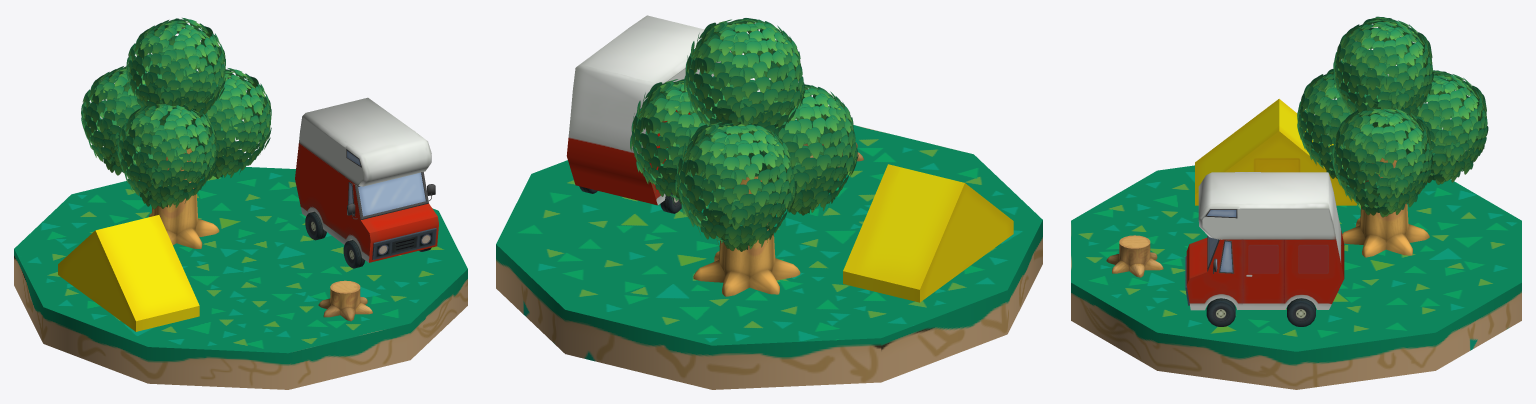
3 views of the same model, side by side, from view 1: azimuth 30°, elevation 25°; view 2: azimuth 150°, elevation 25°; view 3: azimuth 270°, elevation 25° (orthographic). The views are drawn at different scales.
Parts seen in each view (by area): view 1: Boden, Wohnmobil_wohmobil_baumstumpf_rad_0, Zelt, Baumkrone03, Baumkrone00, Baumkrone01, Baumkrone02, Baumstamm, Baumstumpf, Wohnmobil_rahmen_0, reifen006_wohmobil_baumstumpf_rad_0, reifen007_wohmobil_baumstumpf_rad_0; view 2: Boden, Zelt, Wohnmobil_wohmobil_baumstumpf_rad_0, Baumkrone02, Baumkrone00, Baumkrone03, Baumkrone01, Baumstamm; view 3: Boden, Wohnmobil_wohmobil_baumstumpf_rad_0, Baumkrone01, Baumkrone00, Zelt, Baumkrone02, Baumkrone03, Baumstamm, Baumstumpf, reifen01_wohmobil_baumstumpf_rad_0, reifen005_wohmobil_baumstumpf_rad_0, Wohnmobil_rahmen_0.
Part boxes in pixels (box(x1,y1,x2,y2)): Boden: box(14, 167, 467, 389); Wohnmobil_wohmobil_baumstumpf_rad_0: box(295, 97, 438, 262); Zelt: box(58, 215, 199, 331); Baumkrone03: box(117, 103, 216, 209); Baumkrone00: box(126, 17, 225, 126); Baumkrone01: box(186, 68, 271, 179); Baumkrone02: box(81, 66, 167, 175); Baumstamm: box(148, 148, 219, 248); Baumstumpf: box(318, 280, 372, 321); Wohnmobil_rahmen_0: box(346, 149, 435, 219); reifen006_wohmobil_baumstumpf_rad_0: box(343, 240, 365, 268); reifen007_wohmobil_baumstumpf_rad_0: box(305, 211, 326, 240); Boden: box(496, 119, 1042, 389); Zelt: box(843, 164, 1013, 302); Wohnmobil_wohmobil_baumstumpf_rad_0: box(566, 15, 731, 205); Baumkrone02: box(675, 121, 796, 251); Baumkrone00: box(684, 18, 805, 142); Baumkrone03: box(748, 84, 858, 215); Baumkrone01: box(630, 79, 735, 209); Baumstamm: box(693, 176, 800, 296); Boden: box(1071, 165, 1521, 389); Wohnmobil_wohmobil_baumstumpf_rad_0: box(1185, 172, 1344, 310); Baumkrone01: box(1332, 107, 1432, 217); Baumkrone00: box(1333, 16, 1433, 127); Zelt: box(1195, 99, 1356, 205); Baumkrone02: box(1395, 70, 1488, 184); Baumkrone03: box(1297, 69, 1391, 178); Baumstamm: box(1342, 154, 1429, 257); Baumstumpf: box(1106, 235, 1163, 277); reifen01_wohmobil_baumstumpf_rad_0: box(1206, 298, 1235, 326); reifen005_wohmobil_baumstumpf_rad_0: box(1287, 298, 1315, 326); Wohnmobil_rahmen_0: box(1205, 209, 1237, 273).
Size of the model in its own units: 236 by 143 by 225.
4 materials, 3 textured.
